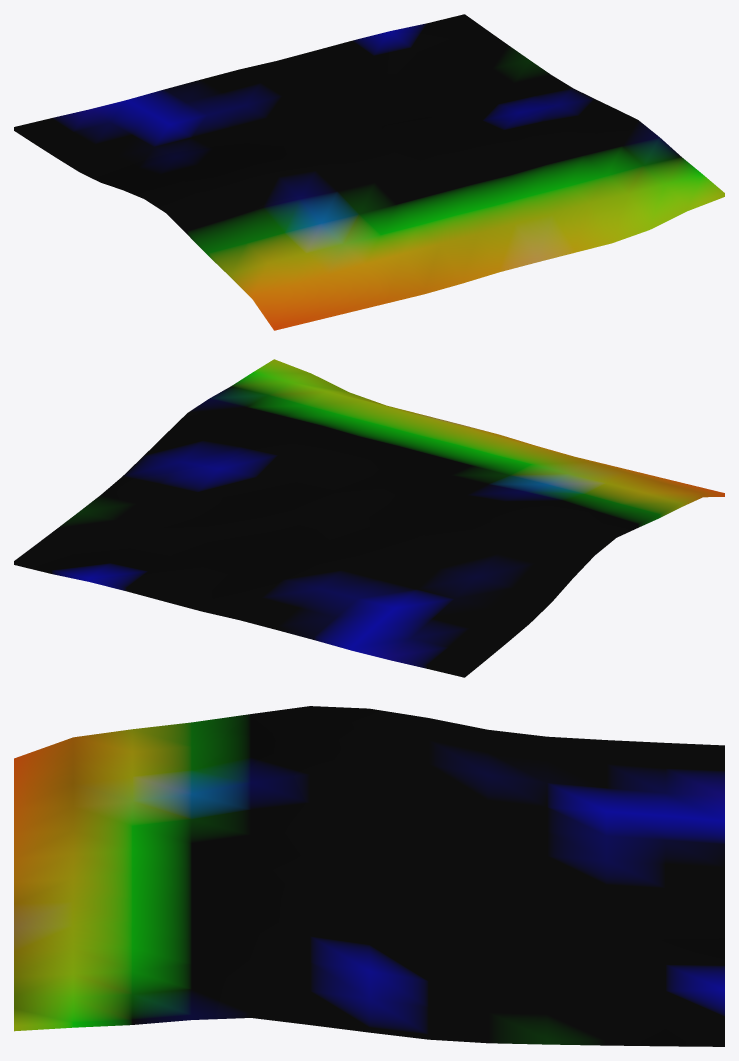
File: coast_1_8.glb
3 renders of one model, top to bottom at view 1: azimuth 30°, elevation 25°; view 2: azimuth 150°, elevation 25°; view 3: azimuth 270°, elevation 25°, orthographic. The views are drawn at different scales.
Parts seen in each view (by area): view 1: terrain; view 2: terrain; view 3: terrain.
Part boxes in pixels (<box>): terrain: <box>14,14,724,330</box>; terrain: <box>14,359,724,677</box>; terrain: <box>14,706,724,1046</box>.
Size of the model in its own units: 192 by 19.58 by 192.
